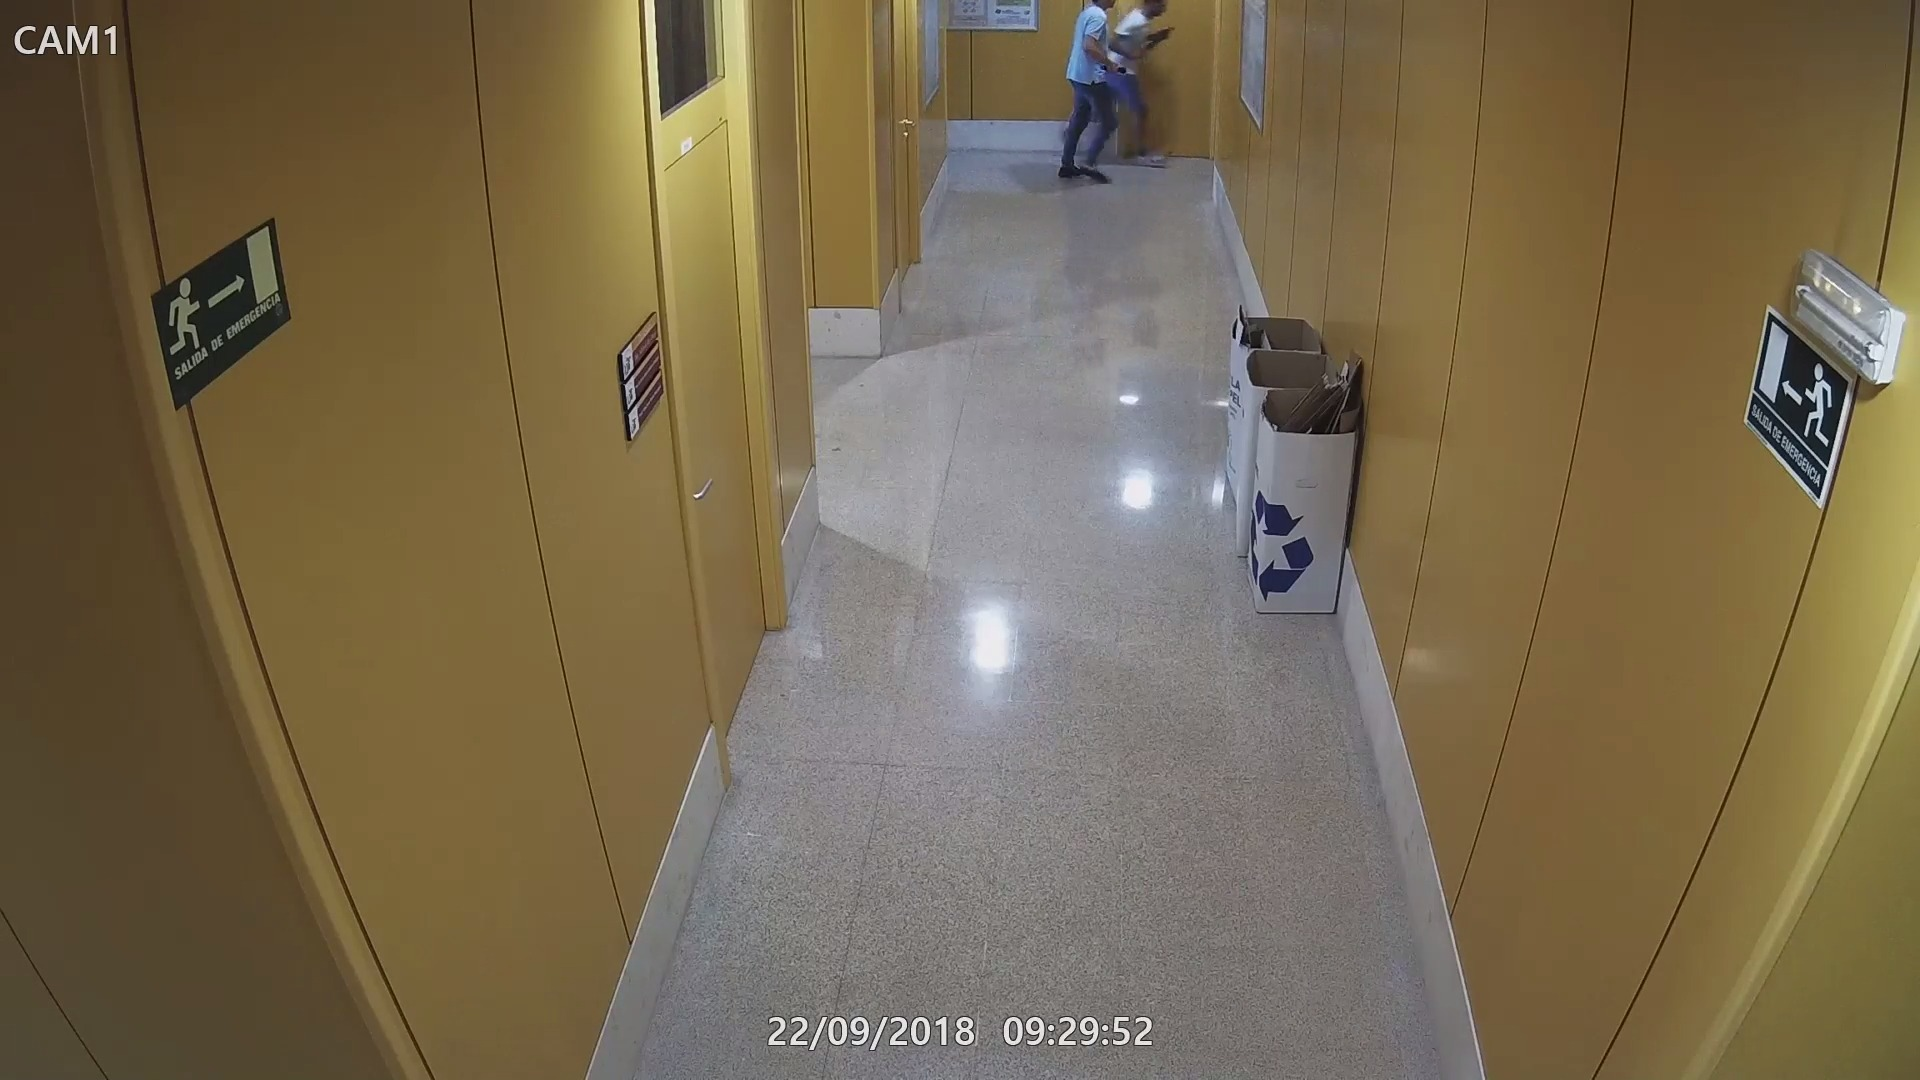Short_rifle: (1142, 25, 1178, 51)
